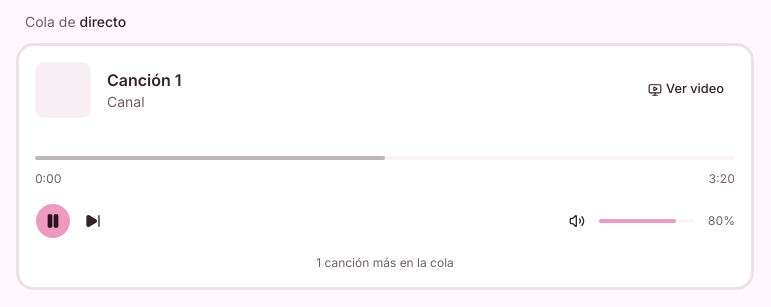
Test case: controles › el botón de saltar pasa a la siguiente canción
Step 1. Click the button named "Saltar a la siguiente" → [93, 220], box top-left (75, 202), bottom-right (111, 238)
Wait 10 ms
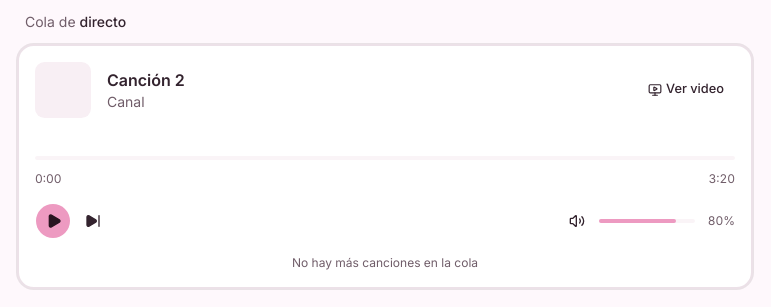
Now the text "Canción 2" is shown, box top-left (107, 70), bottom-right (185, 90)
